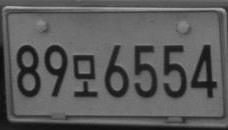4: (190, 43, 217, 98)
5: (133, 44, 158, 98), (162, 44, 187, 98)
6: (103, 45, 130, 97)
8: (15, 43, 41, 98)
9: (43, 43, 68, 97)
모: (72, 53, 98, 98)
